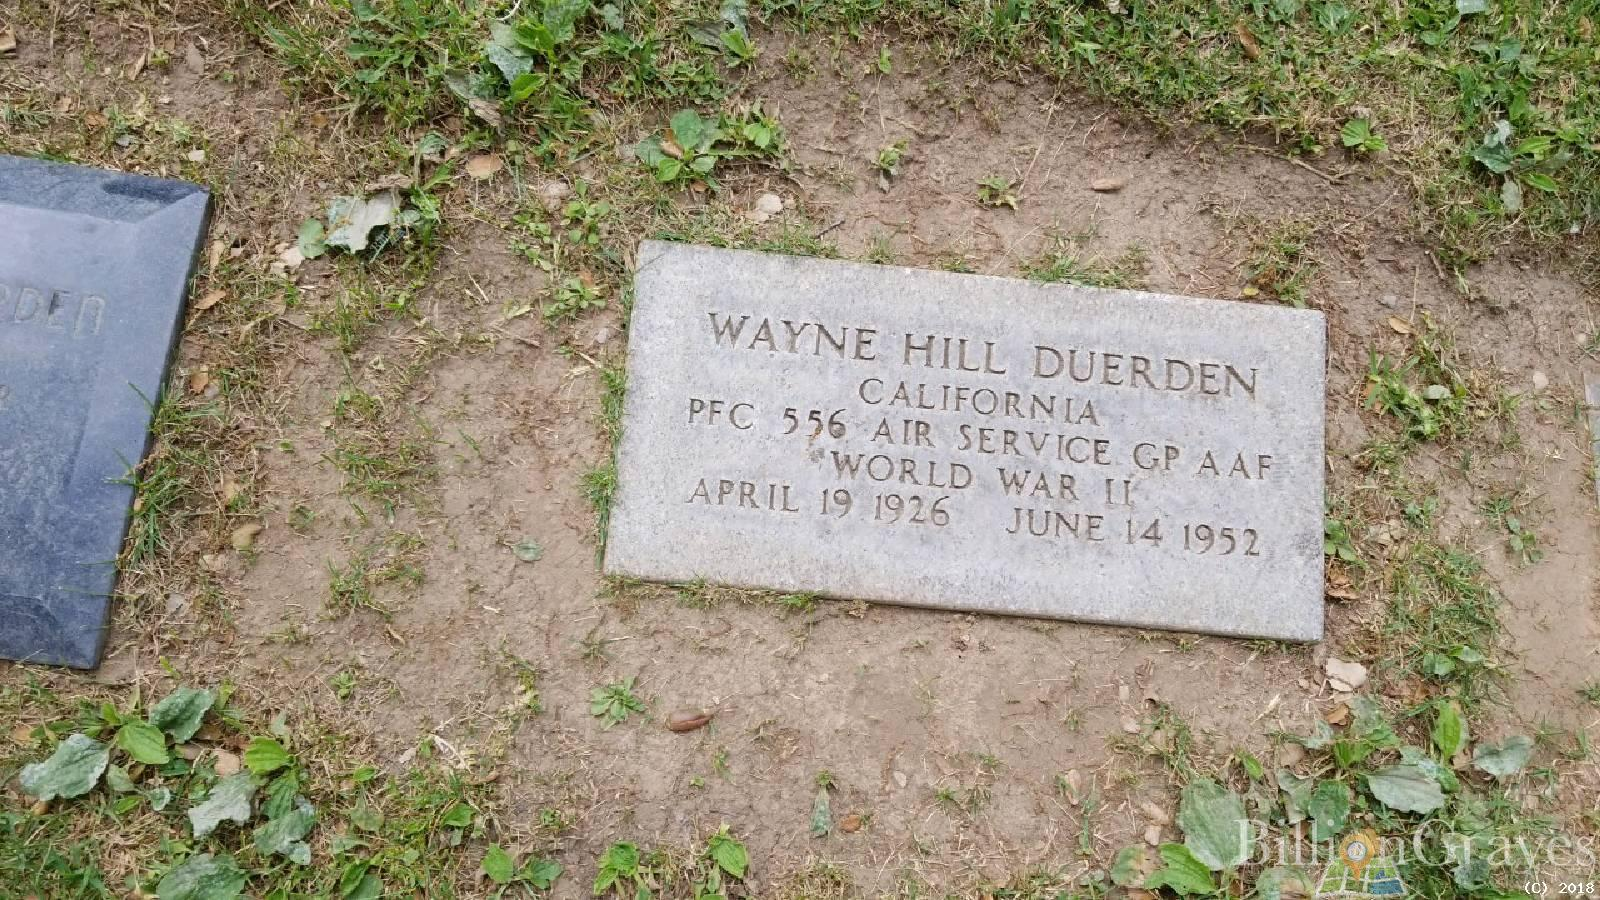flat: (600, 237, 1327, 643)
